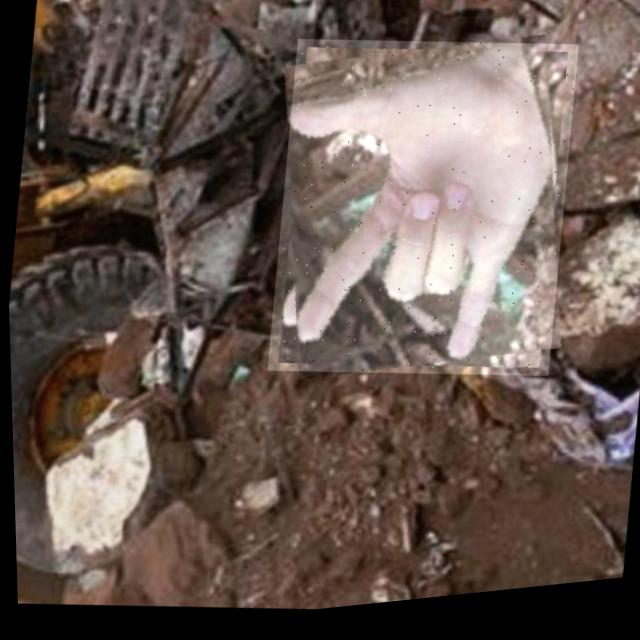Person in Rubble: (257, 21, 586, 409)
